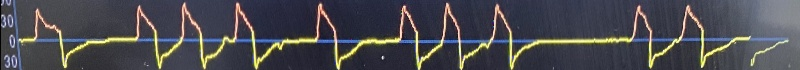normal_flow: (0, 0, 768, 70)
